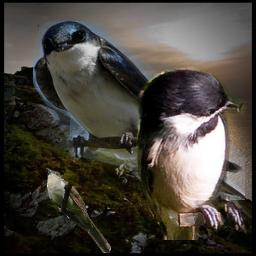Cuckoo: (46, 168, 111, 253)
Swallow: (33, 21, 245, 200), (133, 64, 251, 240)
